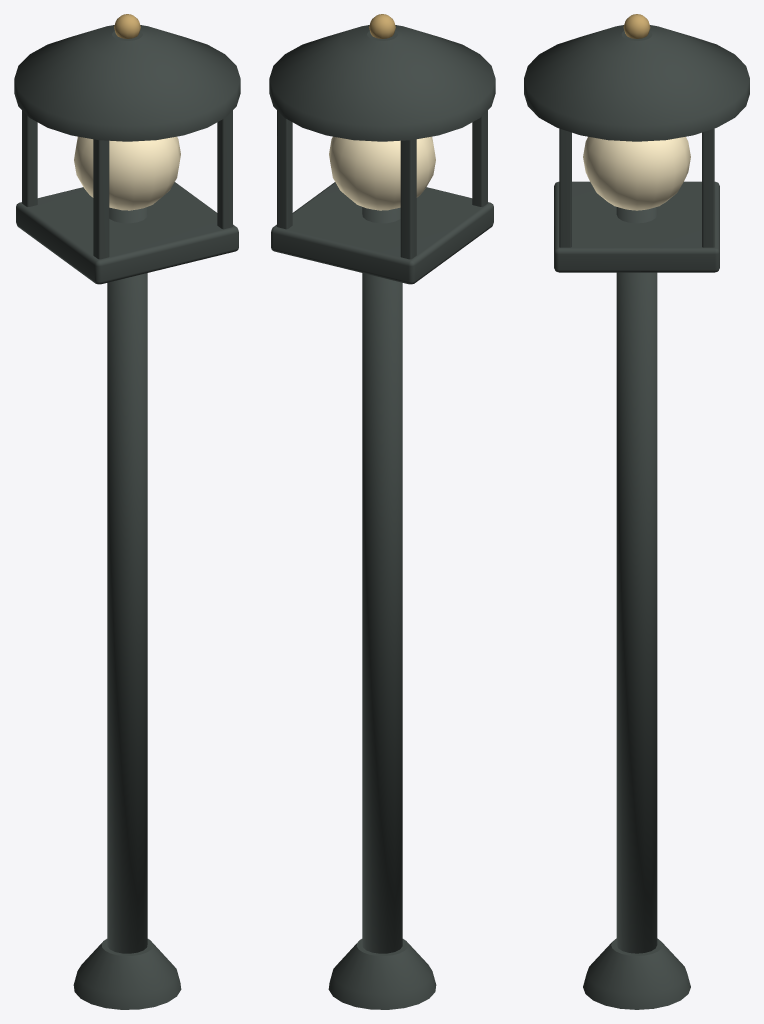
File: light.standing-new.glb
The picture shows the model from 3 angles, left to right: view 1: azimuth 30°, elevation 25°; view 2: azimuth 150°, elevation 25°; view 3: azimuth 270°, elevation 25°; orthographic projection.
Parts seen in each view (by area): view 1: Flared cast foot; view 2: Flared cast foot; view 3: Flared cast foot.
Boxes of the visible parts, x1,y1,x2,y2 form: Flared cast foot: [14, 14, 240, 1009]; Flared cast foot: [269, 14, 495, 1009]; Flared cast foot: [524, 14, 749, 1009].
Size of the model in its own units: 0.5848 by 2.78 by 0.5848.
